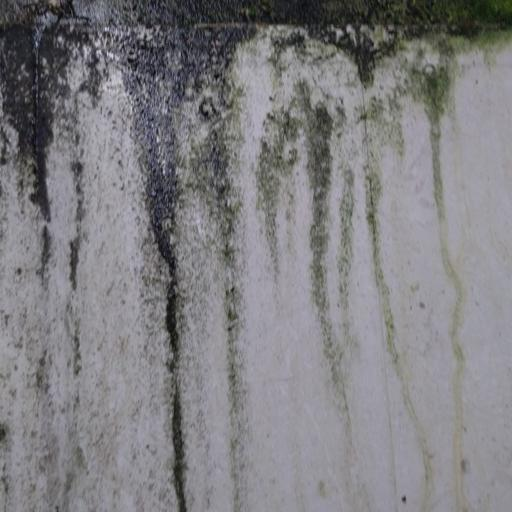algae: (0, 1, 512, 430)
